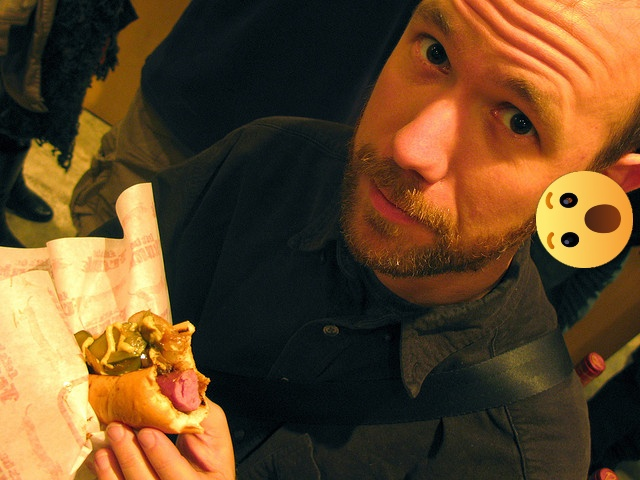wow: (536, 171, 633, 268)
